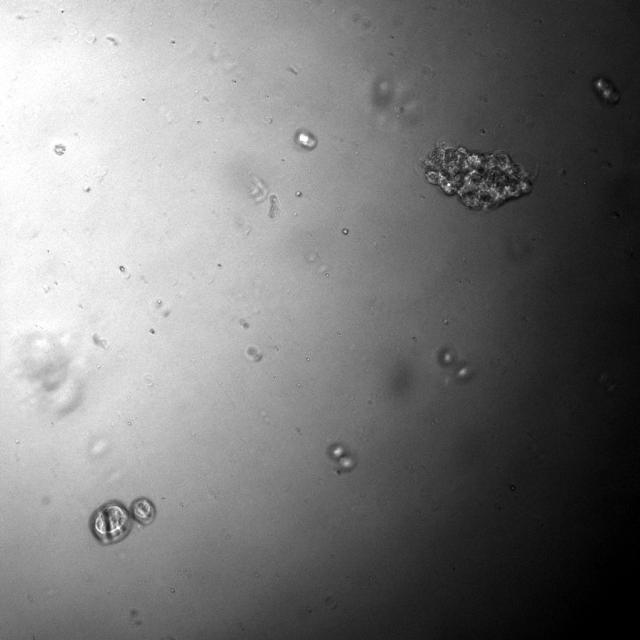organoid: (421, 147, 532, 210), (89, 497, 156, 544), (436, 346, 472, 381), (328, 443, 356, 472), (592, 76, 619, 106), (294, 128, 317, 150)
